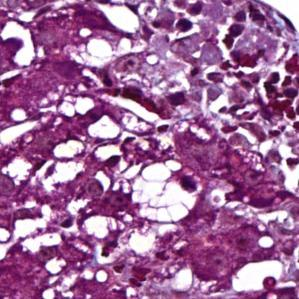ballooning: (128, 157, 206, 226)
